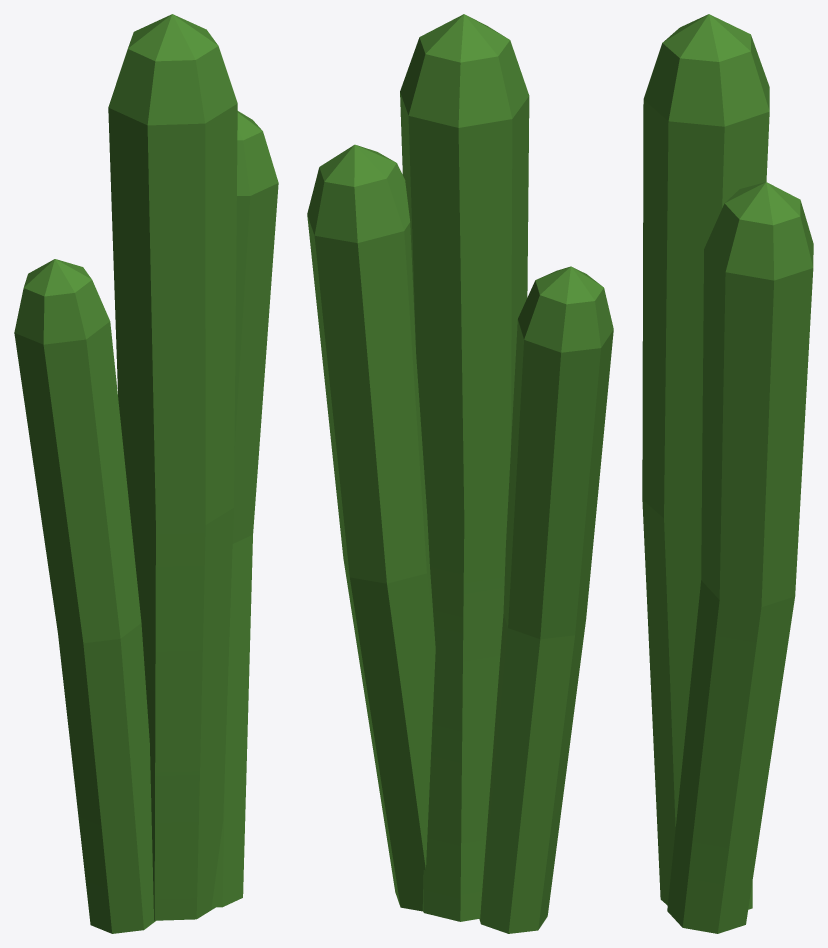
The model's file is nature_cactus-basic.fbx.
3 views of the same model, side by side, from view 1: azimuth 30°, elevation 25°; view 2: azimuth 150°, elevation 25°; view 3: azimuth 270°, elevation 25° (orthographic).
Visible parts, largest first — view 1: nature_cactus_basic; view 2: nature_cactus_basic; view 3: nature_cactus_basic.
Boxes of the visible parts, x1,y1,x2,y2 form: nature_cactus_basic: (14, 14, 278, 933); nature_cactus_basic: (307, 14, 613, 933); nature_cactus_basic: (642, 14, 813, 933).
Size of the model in its own units: 62.95 by 200 by 34.43.
